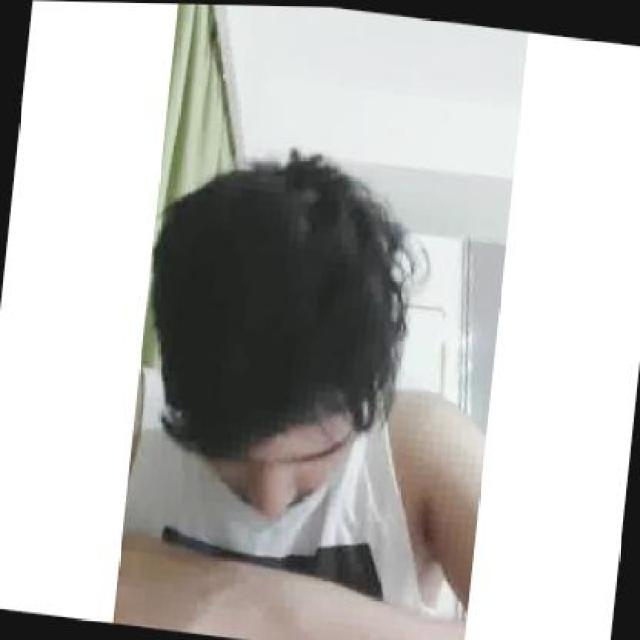inattentif: (142, 131, 388, 529)
